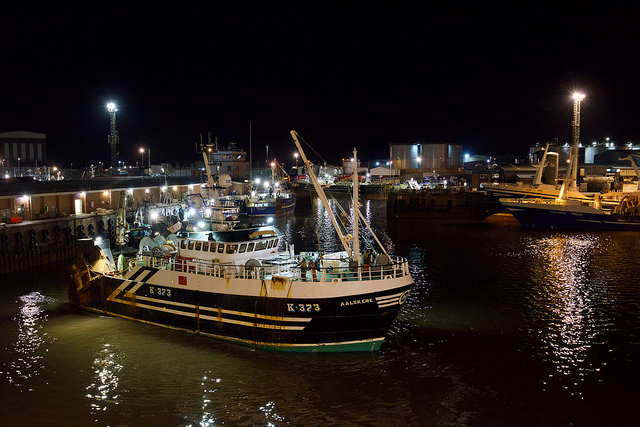fishing_boat: (60, 147, 415, 357), (502, 150, 635, 231), (245, 155, 296, 219)
